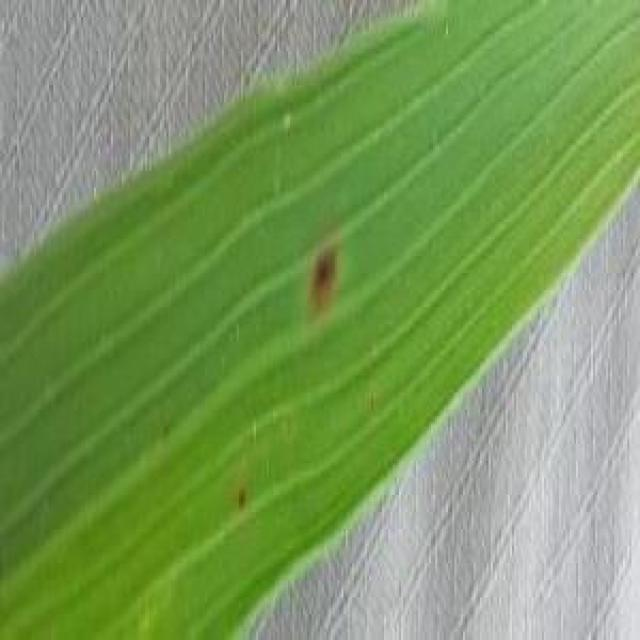Brown_Spot: (286, 228, 359, 323), (220, 479, 268, 530)
